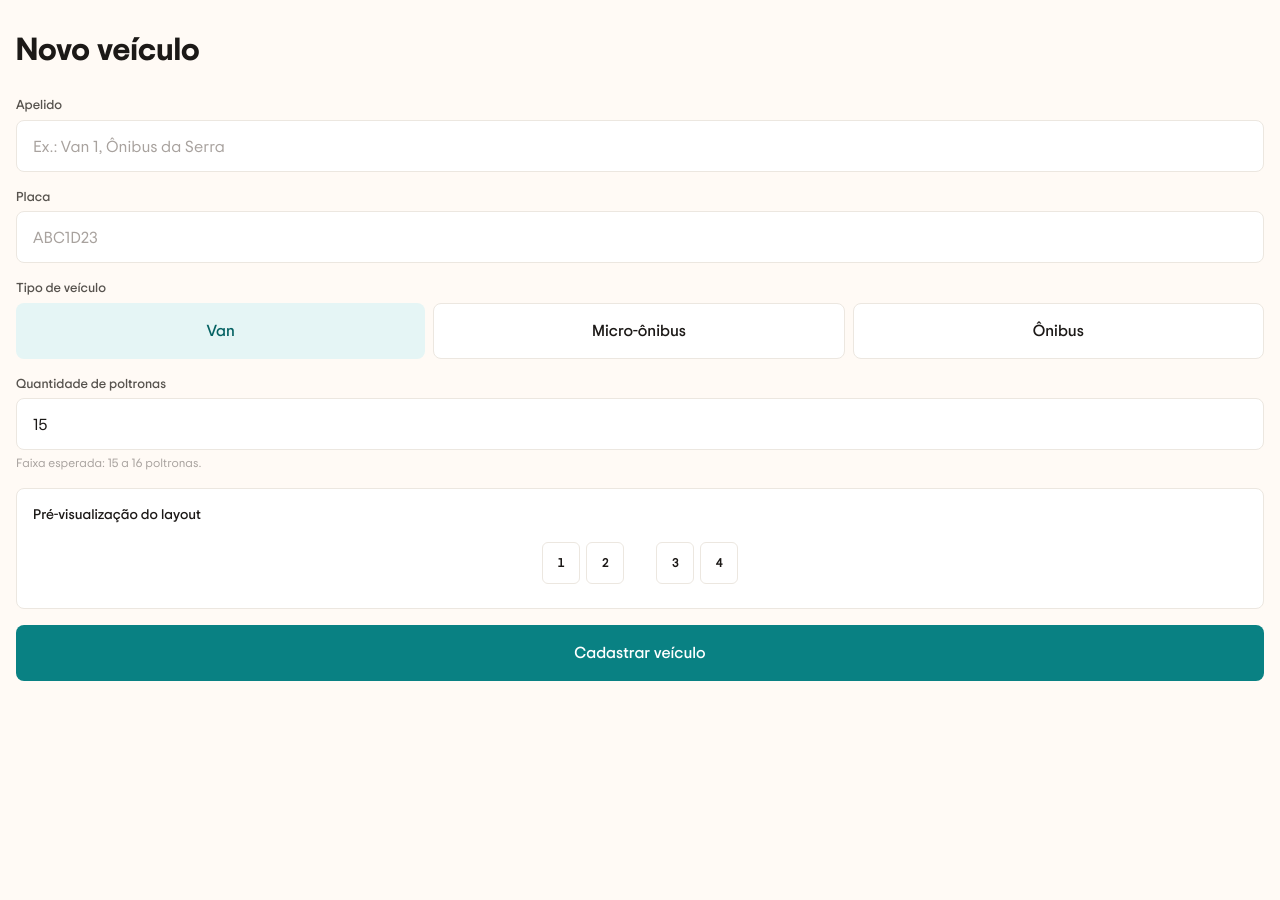
NovoVeiculoPage › atualiza a pré-visualização do layout ao trocar o tipo de veículo
Expected: the element named "Poltrona 1, livre" is shown, [542,542,580,584]
What coordinates should you click on to do the following:
click the button "Ônibus"
I would click on:
 (1058, 330)
Its box is [853,302,1264,358].
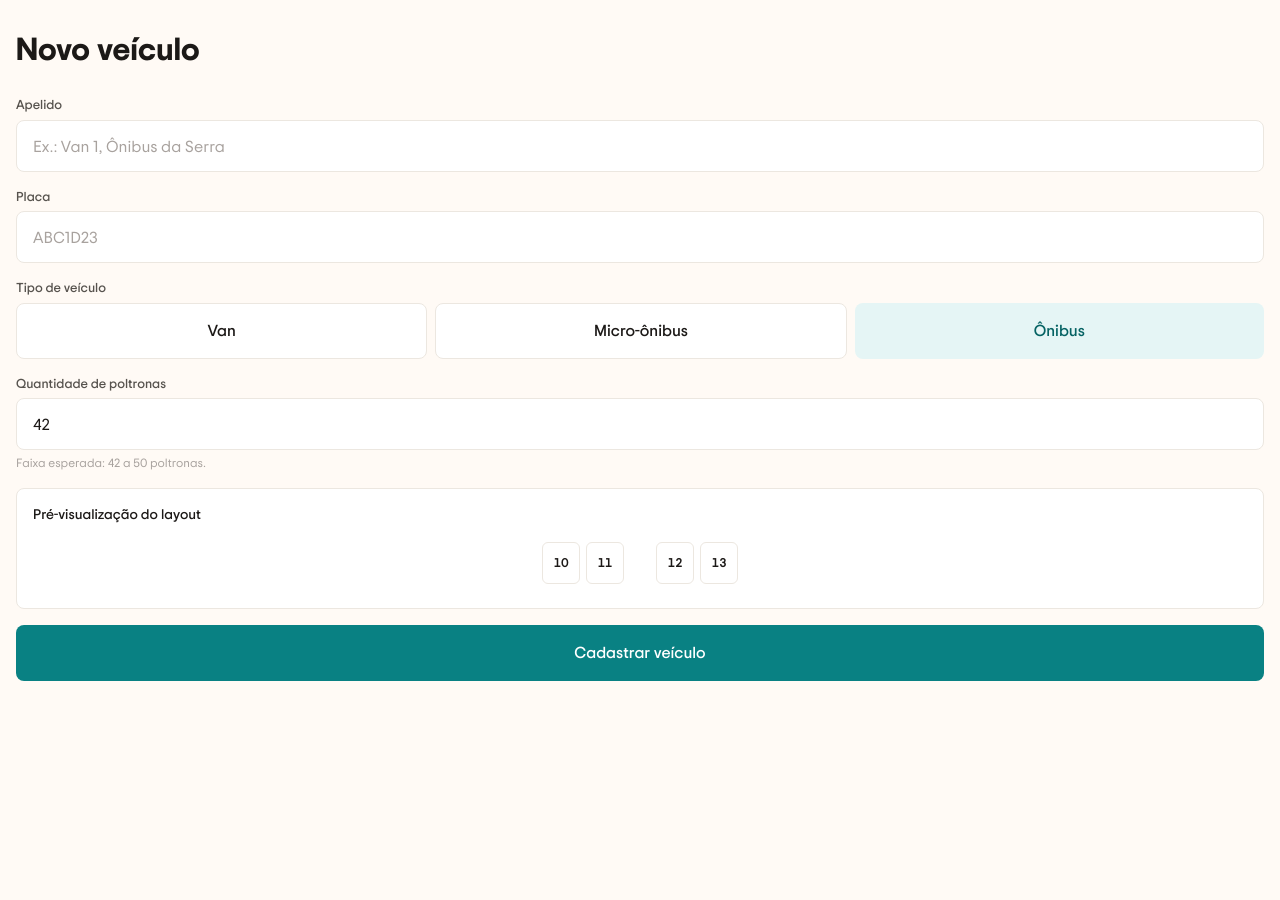
Expected: the element named "Poltrona 10, livre" is shown, [542,542,580,584]
